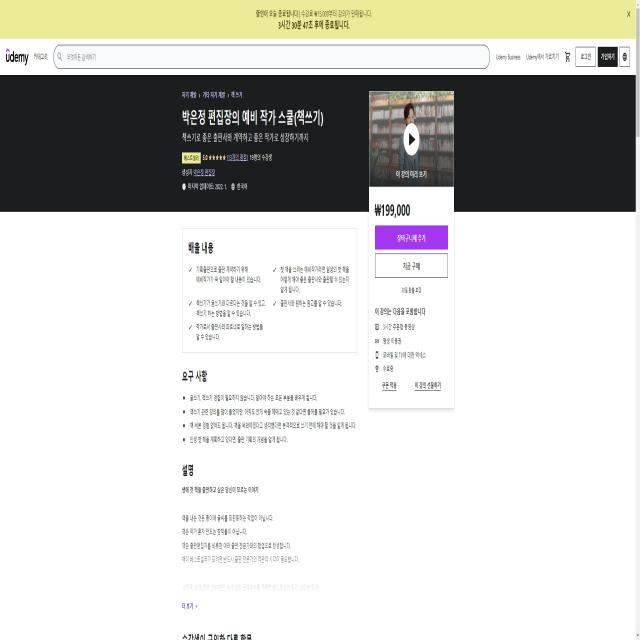menu-bar: (493, 44, 630, 68)
search: (50, 42, 491, 70)
side-panel: (366, 89, 450, 412)
